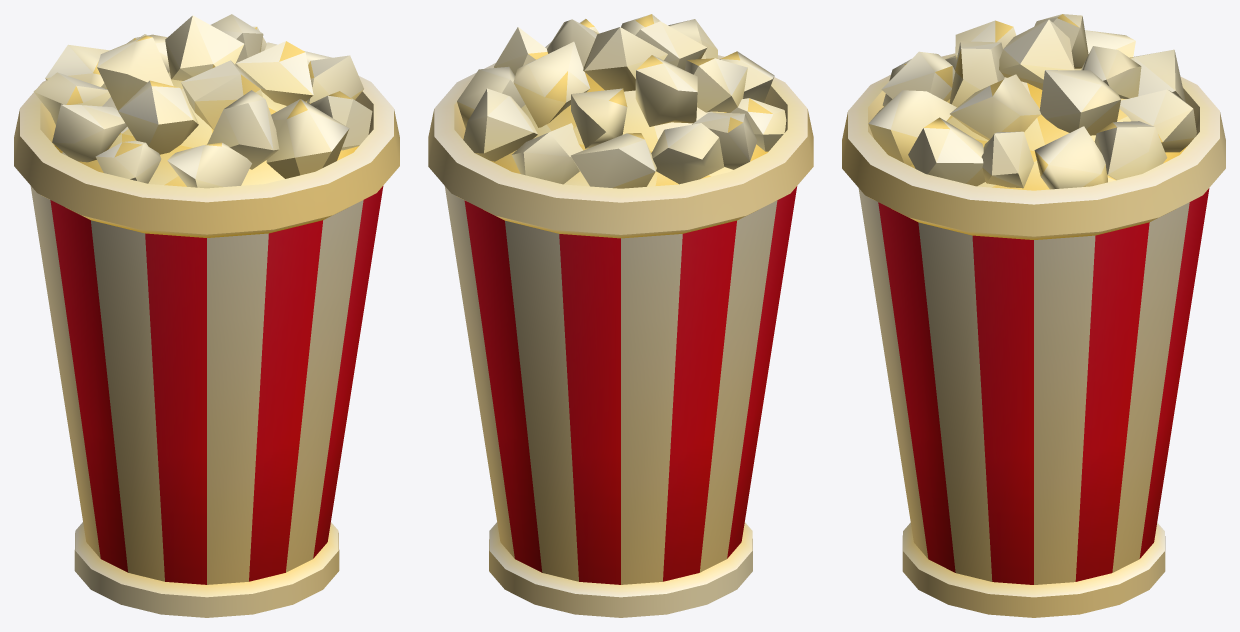
Rendered from popkorn.fbx.
The picture shows the model from 3 angles, left to right: view 1: azimuth 30°, elevation 25°; view 2: azimuth 150°, elevation 25°; view 3: azimuth 270°, elevation 25°; orthographic projection.
Visible parts, largest first — view 1: popkorn; view 2: popkorn; view 3: popkorn.
Part boxes in pixels (x1=…): popkorn: x1=14, y1=14, x2=399, y2=617; popkorn: x1=428, y1=14, x2=813, y2=617; popkorn: x1=842, y1=14, x2=1225, y2=617.
Bounding box in the file's own units: 13.48 × 20.81 × 13.28.
